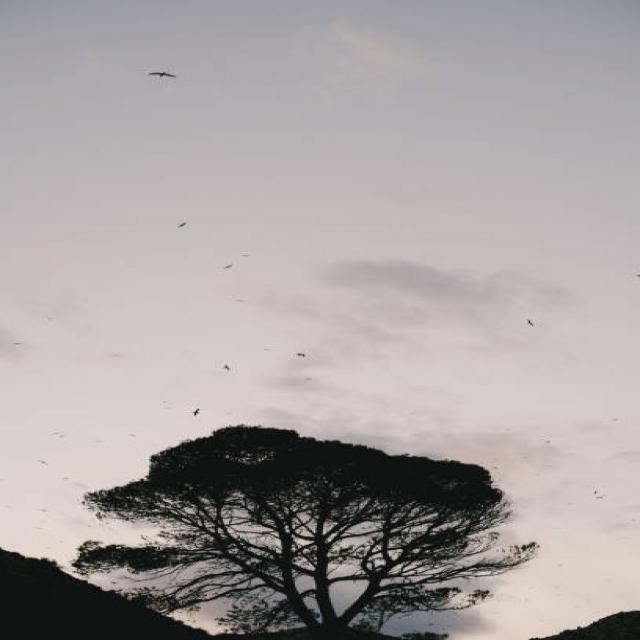tree: (76, 436, 578, 640)
